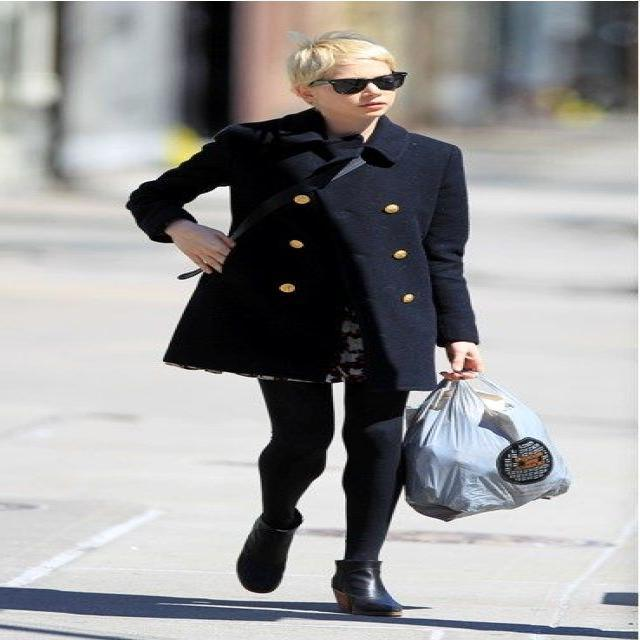coat: (120, 110, 485, 386)
